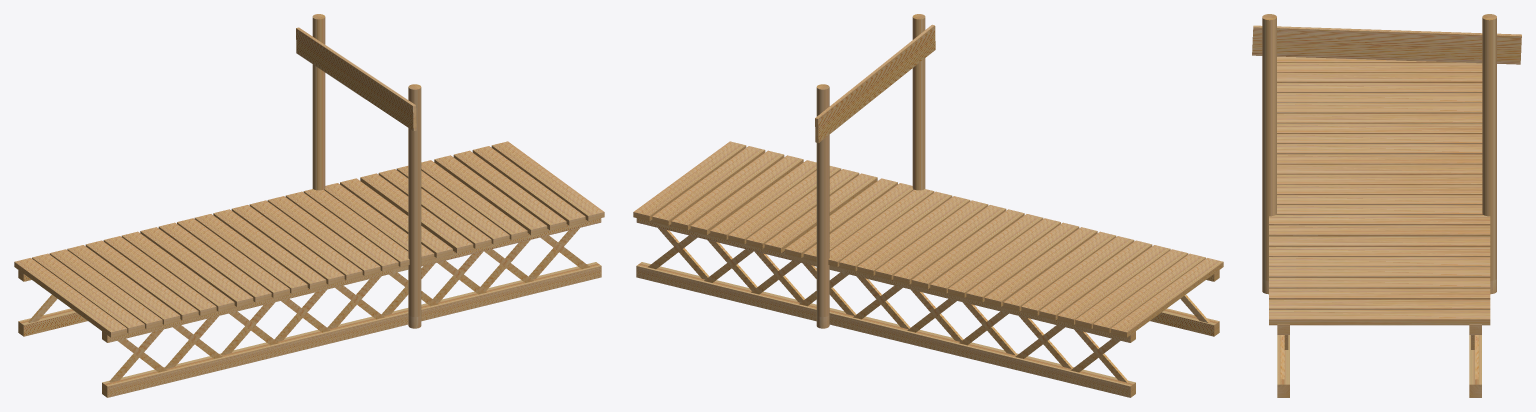
The model's file is Platform_3.fbx.
The picture shows the model from 3 angles, left to right: view 1: azimuth 30°, elevation 25°; view 2: azimuth 150°, elevation 25°; view 3: azimuth 270°, elevation 25°; orthographic projection. The views are drawn at different scales.
Visible parts, largest first — view 1: Cube.032, Cylinder, Cube.033, Cube.030, Cube.031, Cube.042, Cube.043, Cube.041, Cube.044, Cube.022, Cube.017, Cube.016 (+20 smaller); view 2: Cube.032, Cylinder, Cube.033, Cube.030, Cube.031, Cube.042, Cube.043, Cube.041, Cube.044, Cube.022, Cube.017, Cube.016 (+20 smaller); view 3: Cube.033, Cylinder, Cube.044, Cube.012, Cube.041, Cube.037, Cube.042, Cube.039, Cube.043, Cube.013, Cube.017, Cube.027 (+19 smaller).
Part boxes in pixels (x1=…): Cube.032: x1=18, y1=262, x2=601, y2=397; Cylinder: x1=312, y1=14, x2=421, y2=328; Cube.033: x1=296, y1=27, x2=416, y2=131; Cube.030: x1=18, y1=218, x2=601, y2=342; Cube.031: x1=14, y1=258, x2=127, y2=337; Cube.042: x1=434, y1=155, x2=547, y2=234; Cube.043: x1=472, y1=146, x2=585, y2=225; Cube.041: x1=453, y1=150, x2=566, y2=230; Cube.044: x1=491, y1=141, x2=604, y2=221; Cube.022: x1=140, y1=227, x2=253, y2=306; Cube.017: x1=213, y1=209, x2=326, y2=288; Cube.016: x1=231, y1=205, x2=344, y2=284; Cube.032: x1=636, y1=262, x2=1219, y2=397; Cylinder: x1=816, y1=14, x2=925, y2=328; Cube.033: x1=815, y1=24, x2=935, y2=143; Cube.030: x1=636, y1=218, x2=1219, y2=342; Cube.031: x1=1110, y1=258, x2=1223, y2=337; Cube.042: x1=690, y1=155, x2=803, y2=234; Cube.043: x1=652, y1=146, x2=765, y2=225; Cube.041: x1=671, y1=150, x2=784, y2=230; Cube.044: x1=633, y1=141, x2=746, y2=221; Cube.022: x1=984, y1=227, x2=1097, y2=306; Cube.017: x1=911, y1=209, x2=1024, y2=288; Cube.016: x1=893, y1=205, x2=1006, y2=284; Cube.033: x1=1252, y1=25, x2=1521, y2=64; Cylinder: x1=1262, y1=14, x2=1496, y2=294; Cube.044: x1=1269, y1=310, x2=1490, y2=325; Cube.012: x1=1269, y1=225, x2=1490, y2=236; Cube.041: x1=1269, y1=288, x2=1490, y2=299; Cube.037: x1=1269, y1=267, x2=1490, y2=277; Cube.042: x1=1269, y1=278, x2=1490, y2=288; Cube.039: x1=1269, y1=236, x2=1490, y2=246; Cube.043: x1=1269, y1=299, x2=1490, y2=309; Cube.013: x1=1269, y1=215, x2=1490, y2=225; Cube.017: x1=1277, y1=154, x2=1482, y2=164; Cube.027: x1=1277, y1=103, x2=1482, y2=113.
Size of the model in its own units: 1300 by 601 by 536.
